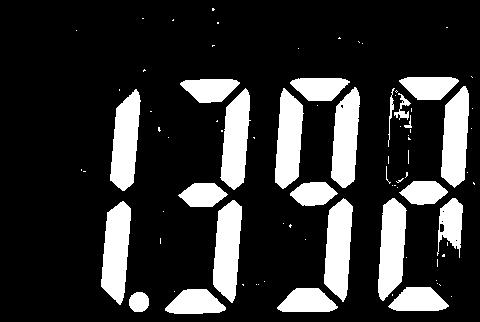1: (99, 87, 143, 308)
3: (166, 74, 250, 318)
8: (383, 72, 471, 313)
9: (270, 73, 365, 312)
dot: (127, 287, 154, 316)
